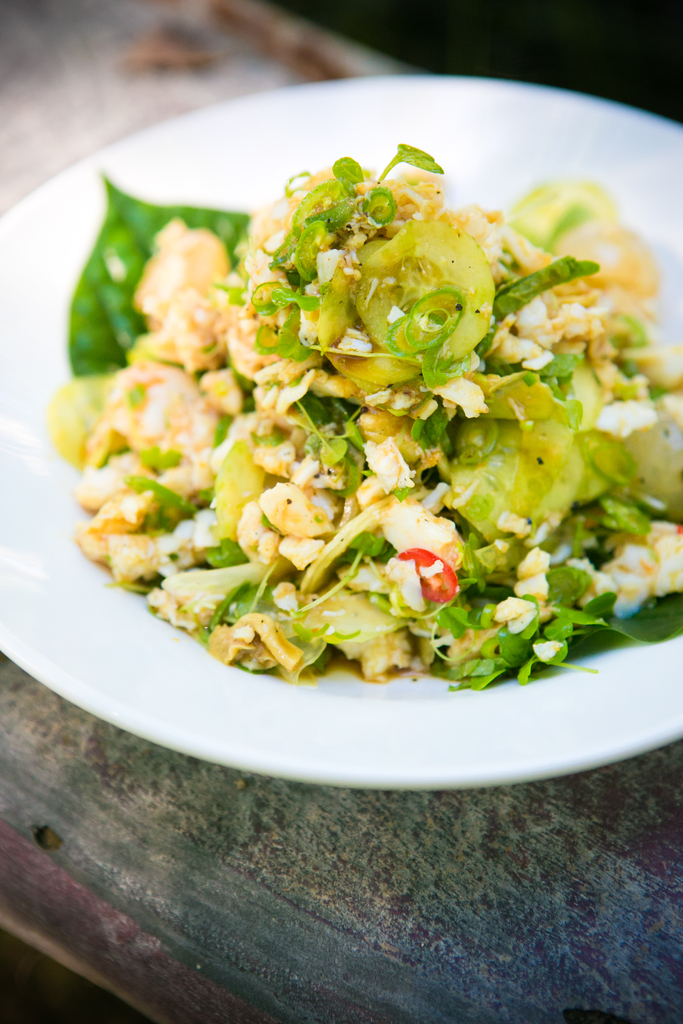salad: (42, 125, 682, 702)
